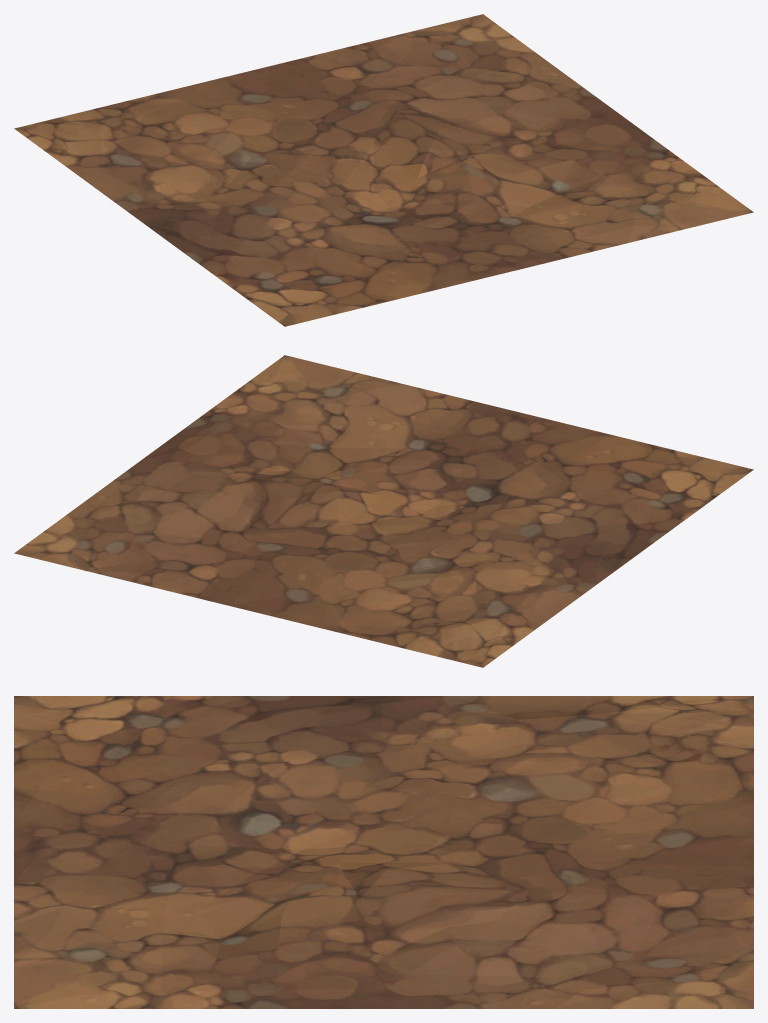
The model's file is Ground_02.fbx.
3 renders of one model, top to bottom at view 1: azimuth 30°, elevation 25°; view 2: azimuth 150°, elevation 25°; view 3: azimuth 270°, elevation 25°, orthographic. The views are drawn at different scales.
Visible parts, largest first — view 1: Ground_02_c; view 2: Ground_02_c; view 3: Ground_02_c.
Boxes of the visible parts, x1,y1,x2,y2 form: Ground_02_c: [14, 14, 753, 326]; Ground_02_c: [14, 355, 753, 667]; Ground_02_c: [14, 696, 753, 1008].
Bounding box in the file's own units: 200 × 7.92 × 200.
